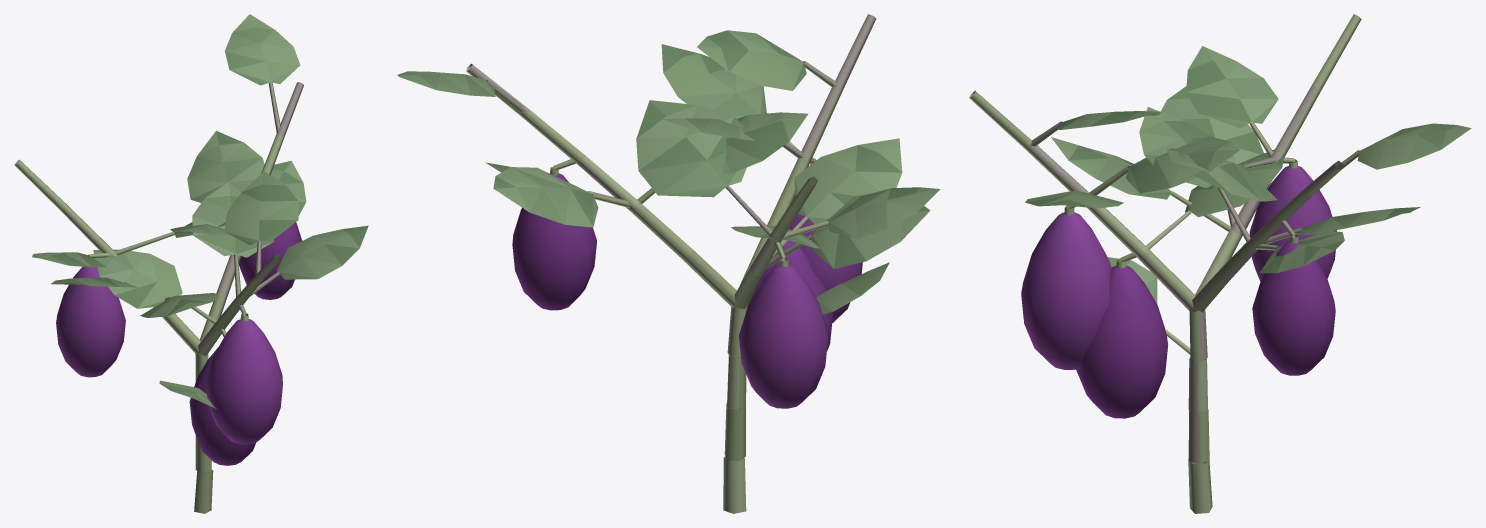
The model's file is aubergine_longue_fruits.glb.
The picture shows the model from 3 angles, left to right: view 1: azimuth 30°, elevation 25°; view 2: azimuth 150°, elevation 25°; view 3: azimuth 270°, elevation 25°; orthographic projection. The views are drawn at different scales.
Visible parts, largest first — view 1: Aubergine_Feuilles, Aubergine_Fruits, Aubergine_Tiges; view 2: Aubergine_Feuilles, Aubergine_Fruits, Aubergine_Tiges; view 3: Aubergine_Fruits, Aubergine_Feuilles, Aubergine_Tiges.
Part boxes in pixels (left/top/right/bottom): Aubergine_Feuilles: left=32, top=14, right=368, bottom=408; Aubergine_Fruits: left=56, top=222, right=302, bottom=465; Aubergine_Tiges: left=14, top=82, right=303, bottom=513; Aubergine_Feuilles: left=397, top=30, right=940, bottom=314; Aubergine_Fruits: left=512, top=173, right=862, bottom=408; Aubergine_Tiges: left=466, top=14, right=875, bottom=513; Aubergine_Fruits: left=1021, top=166, right=1336, bottom=418; Aubergine_Feuilles: left=1025, top=46, right=1471, bottom=303; Aubergine_Tiges: left=969, top=14, right=1361, bottom=513.
Size of the model in its own units: 0.5688 by 0.6159 by 0.5885.
